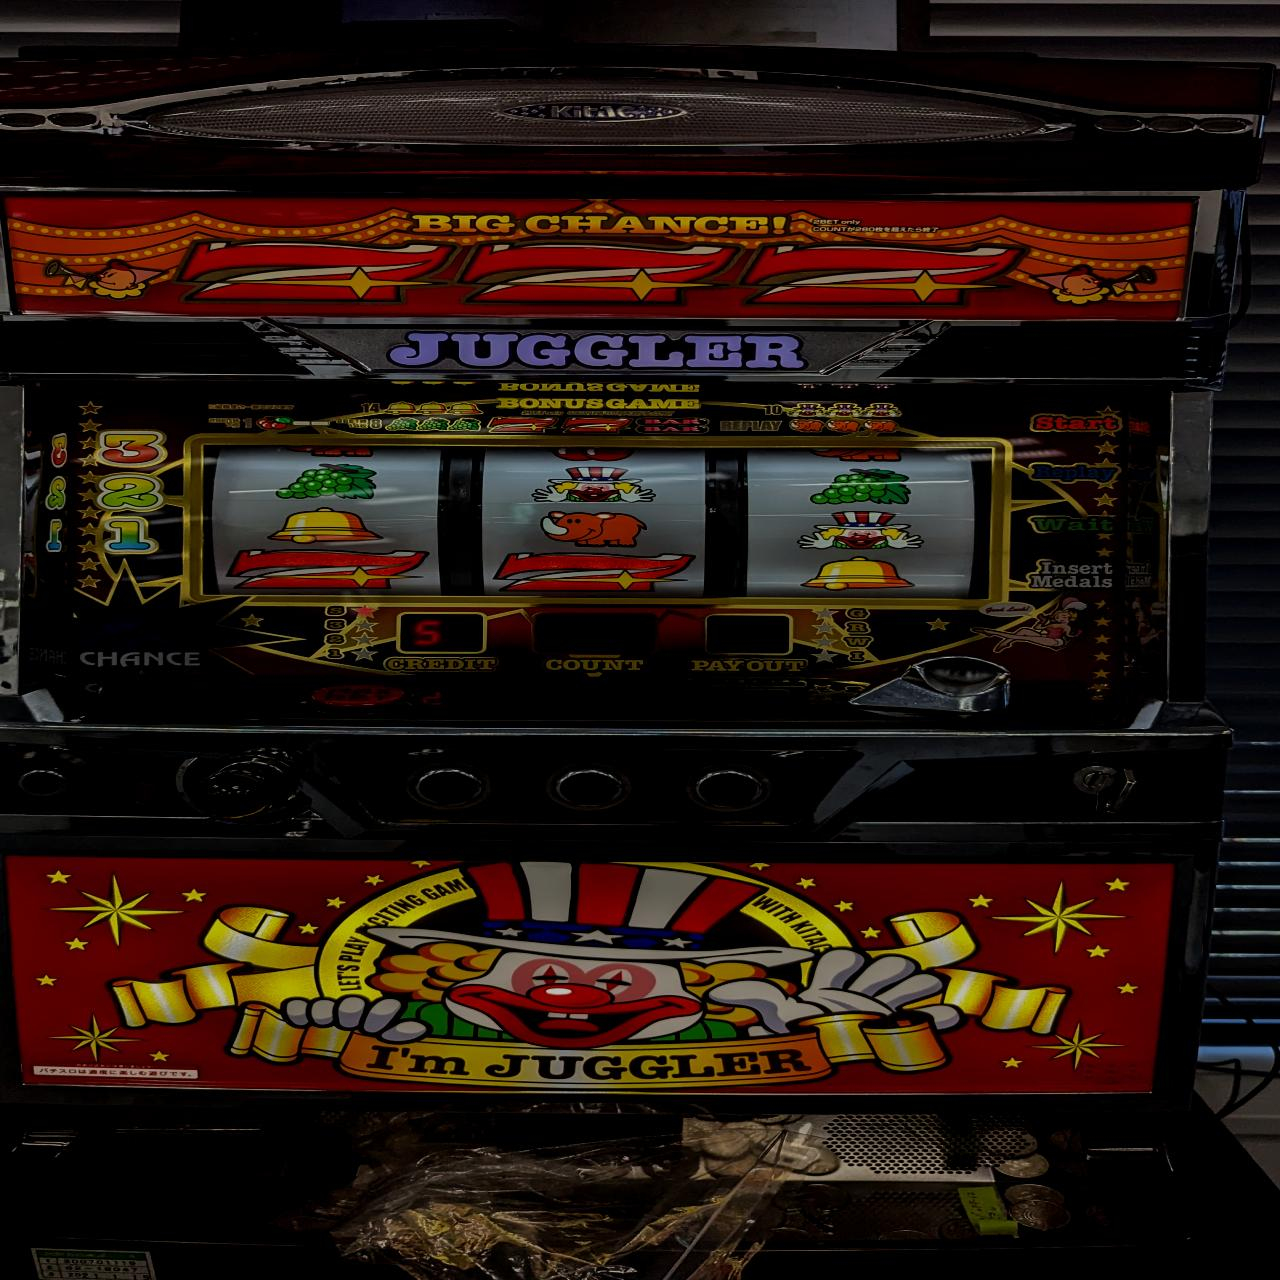7: (218, 545, 435, 592), (489, 551, 703, 595)
8: (533, 508, 652, 547)
Display: (189, 440, 1003, 604)
bell: (784, 553, 921, 593), (265, 505, 389, 545)
clown: (789, 508, 928, 556), (529, 462, 662, 505)
grape: (268, 462, 383, 504), (806, 467, 915, 509)
